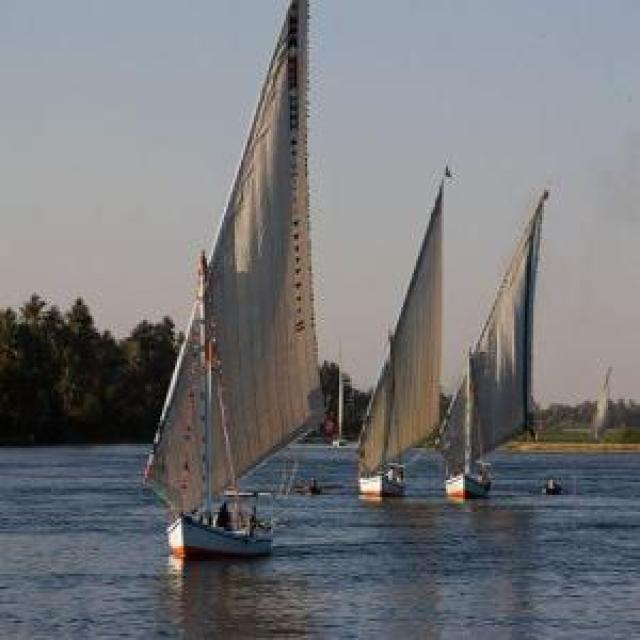sailboat: (130, 0, 327, 555), (428, 187, 546, 503), (345, 166, 447, 504)
